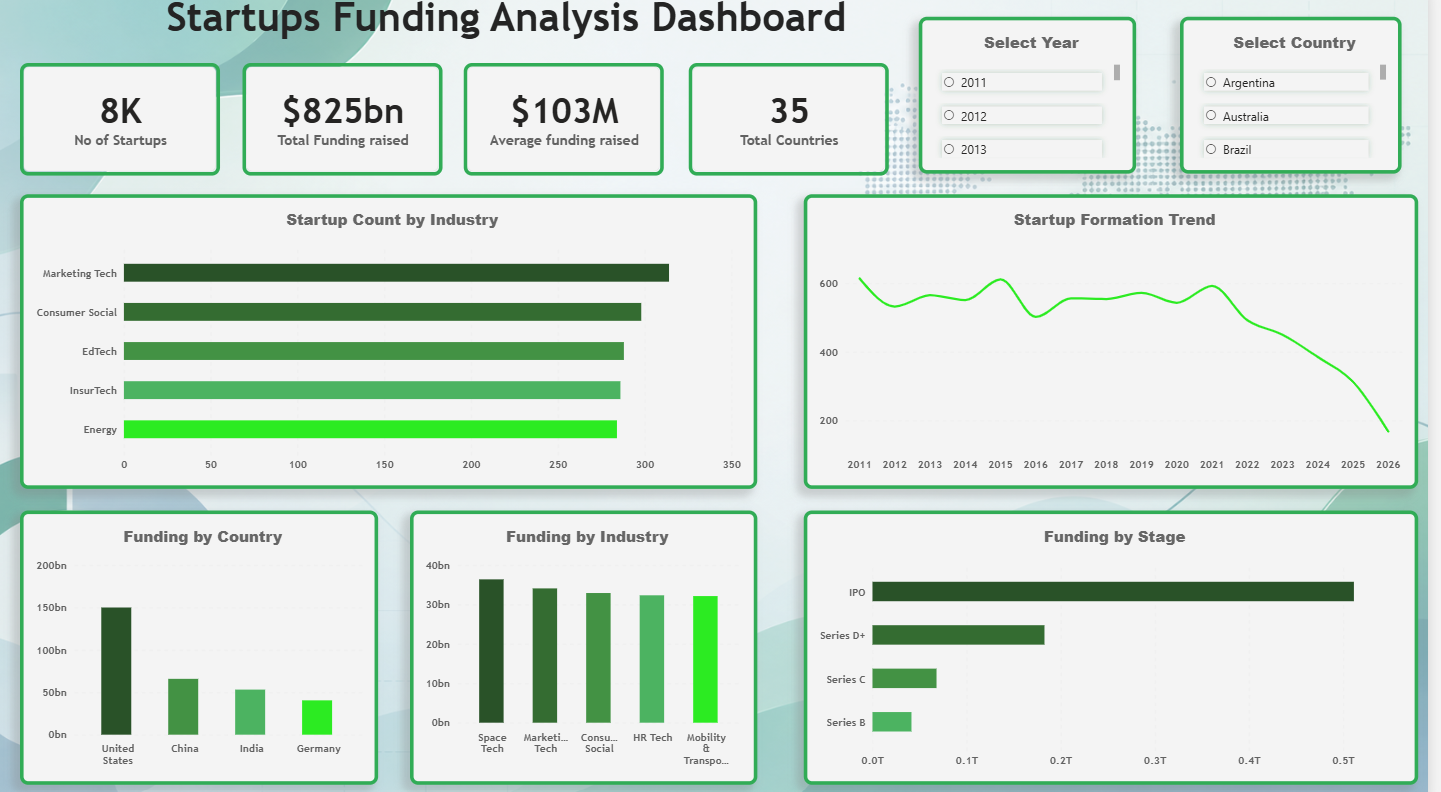

What the dashboard file says about the page in this screenshot:
{"tool":"powerbi","page":{"name":"Page 1","canvas":[1920,1080],"ordinal":0},"visuals":[{"type":"textbox","box":[14.7,0,1349.1,112.3],"z":0},{"type":"cardVisual","fields":{"Data":["Count(public customer.startup_id)"]},"box":[40.5,93.9,267,150.3],"z":1000},{"type":"cardVisual","fields":{"Data":["Sum(public customer.funding_total_usd)"]},"box":[336.8,93.9,267,150.3],"z":2000},{"type":"cardVisual","fields":{"Data":["Avg(public customer.funding_total_usd)"]},"box":[633.1,93.9,267.6,150.3],"z":3000},{"type":"cardVisual","fields":{"Data":["Count(public customer.country)"]},"box":[933.1,93.9,267,150.3],"z":4000},{"type":"lineChart","title":"Startup Formation Trend","fields":{"Category":["public customer.founded_year"],"Y":["CountNonNull(public customer.startup_id)"]},"box":[1087.7,268.7,820.9,393.9],"z":5000},{"type":"clusteredBarChart","title":"Startup Count by Industry","fields":{"Category":["public customer.industry"],"Y":["CountNonNull(public customer.startup_id)"]},"box":[40.5,268.7,984.7,393.9],"z":6000},{"type":"listSlicer","fields":{"Values":["public customer.country"]},"box":[1590.2,31.3,296.3,209.8],"z":7000},{"type":"lineStackedColumnComboChart","title":"Funding by Industry","fields":{"Category":["public customer.industry"],"Y":["Sum(public customer.funding_total_usd)"]},"box":[561.4,692,463.8,366.3],"z":8000},{"type":"clusteredBarChart","title":"Funding by Stage","fields":{"Category":["public customer.funding_stage"],"Y":["Sum(public customer.funding_total_usd)"]},"box":[1087.7,692,820.9,366.3],"z":9000},{"type":"clusteredColumnChart","title":"Funding by Country","fields":{"Category":["public customer.country"],"Y":["Sum(public customer.funding_total_usd)"]},"box":[40.5,692,478.5,366.3],"z":10000},{"type":"listSlicer","fields":{"Values":["public customer.founded_year"]},"box":[1240.5,31.3,290.8,209.8],"z":11000}]}

Visuals, with their boxes in screenshot pixels (x1, y1, x2, y2), scaled from the page's 1920x1080 canvas onto the 1441x792 screenshot:
textbox: 11:0:1024:82
cardVisual - Count(public customer.startup_id): 30:69:231:179
cardVisual - Sum(public customer.funding_total_usd): 253:69:453:179
cardVisual - Avg(public customer.funding_total_usd): 475:69:676:179
cardVisual - Count(public customer.country): 700:69:901:179
"Startup Formation Trend" lineChart: 816:197:1432:486
"Startup Count by Industry" clusteredBarChart: 30:197:769:486
listSlicer - public customer.country: 1193:23:1416:177
"Funding by Industry" lineStackedColumnComboChart: 421:507:769:776
"Funding by Stage" clusteredBarChart: 816:507:1432:776
"Funding by Country" clusteredColumnChart: 30:507:390:776
listSlicer - public customer.founded_year: 931:23:1149:177
